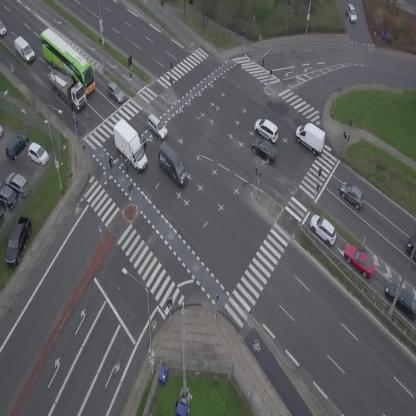bicycle: (106, 156, 116, 172)
bus: (31, 26, 105, 96)
car: (338, 239, 381, 282), (304, 210, 342, 248), (246, 133, 283, 168), (334, 177, 370, 211), (251, 115, 284, 144), (142, 112, 172, 141), (103, 79, 128, 105), (345, 3, 358, 24), (0, 20, 7, 36)
lorry: (39, 58, 94, 113), (107, 114, 150, 176), (148, 141, 196, 188), (290, 118, 332, 158), (10, 35, 39, 64), (408, 237, 416, 259)
